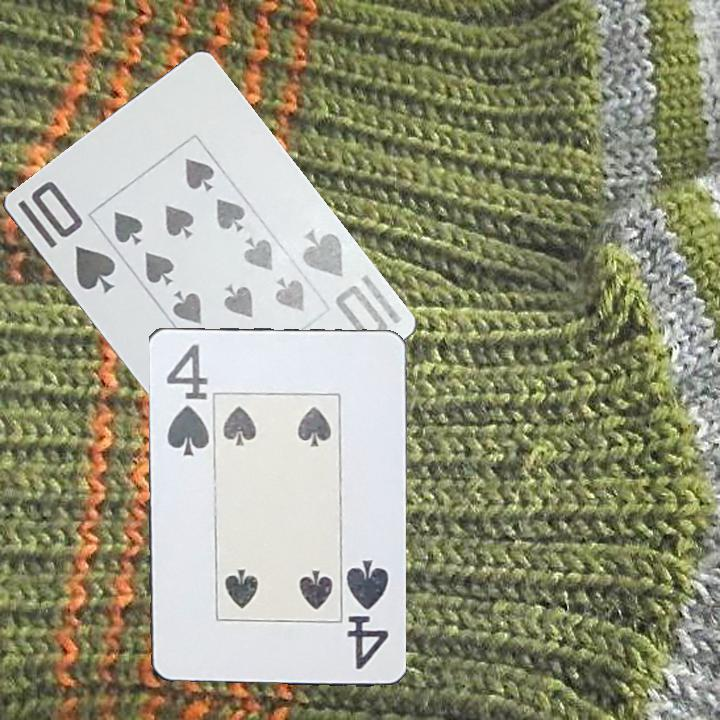4s: (162, 339, 210, 458), (343, 553, 391, 672)
Ts: (14, 177, 120, 297), (299, 223, 392, 346)
